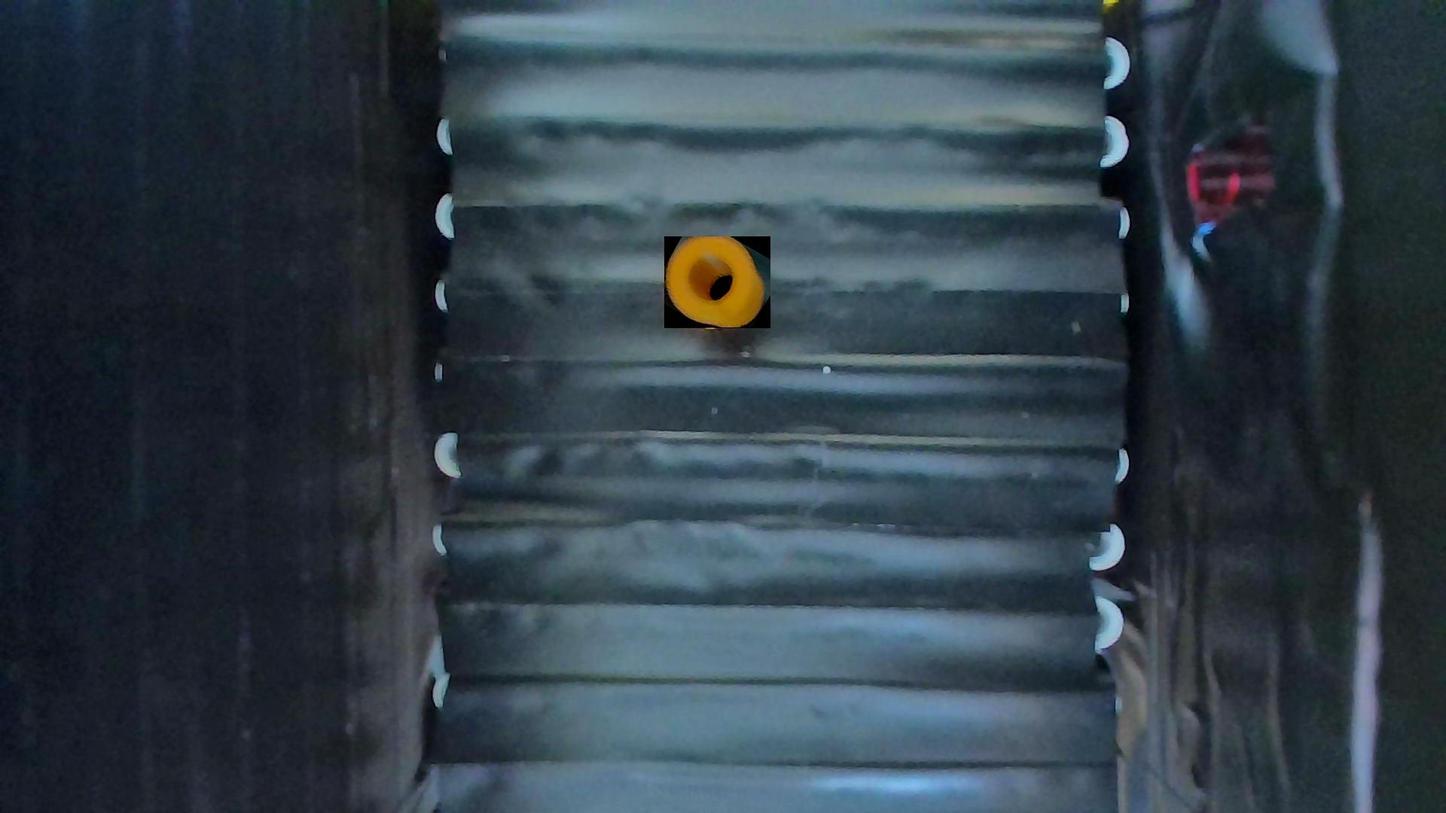spring: (664, 237, 770, 329)
